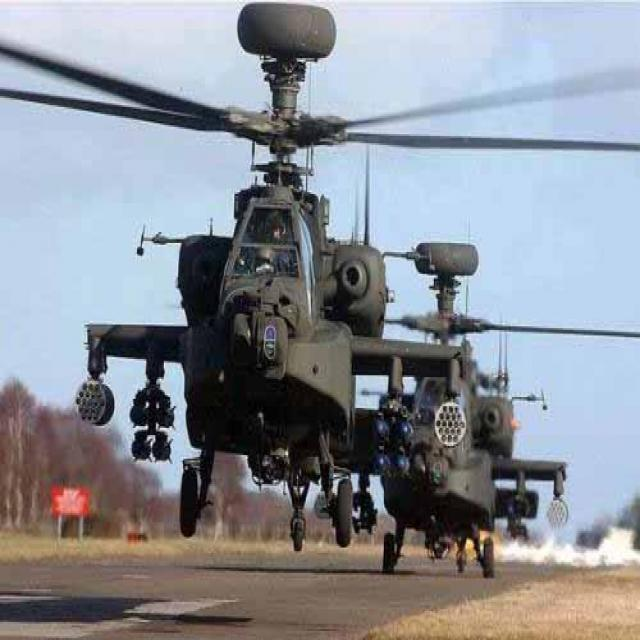MIL_HELO: (0, 0, 640, 557), (293, 228, 640, 586)
